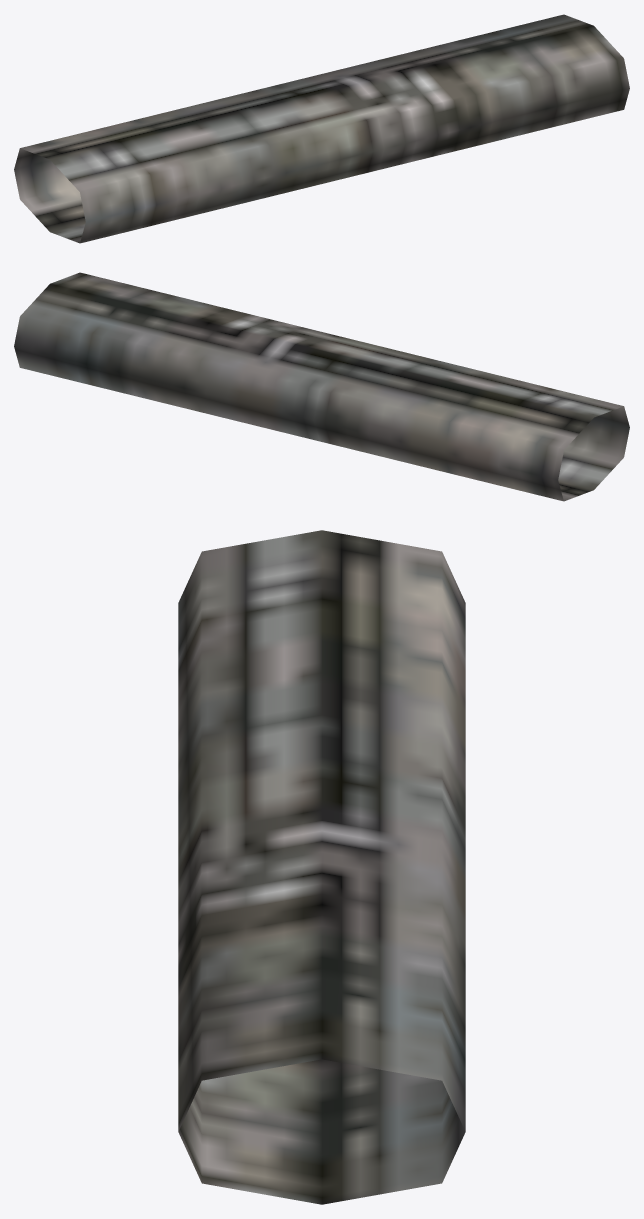
Rendered from lambda_strut_r_l1.fbx.
The picture shows the model from 3 angles, top to bottom: view 1: azimuth 30°, elevation 25°; view 2: azimuth 150°, elevation 25°; view 3: azimuth 270°, elevation 25°; orthographic projection. The views are drawn at different scales.
Parts seen in each view (by area): view 1: mesh_node; view 2: mesh_node; view 3: mesh_node.
Boxes of the visible parts, box(x1,y1,x2,y2) form: mesh_node: box(14, 14, 629, 243); mesh_node: box(14, 272, 629, 501); mesh_node: box(178, 530, 465, 1204).
Size of the model in its own units: 3.21 by 0.4147 by 0.7334.
